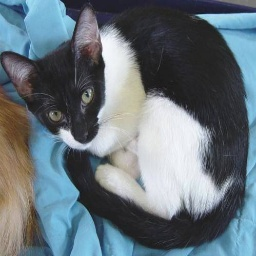cat: (5, 5, 249, 243)
